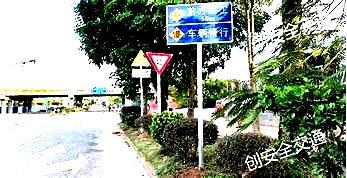sign: (165, 6, 232, 43)
